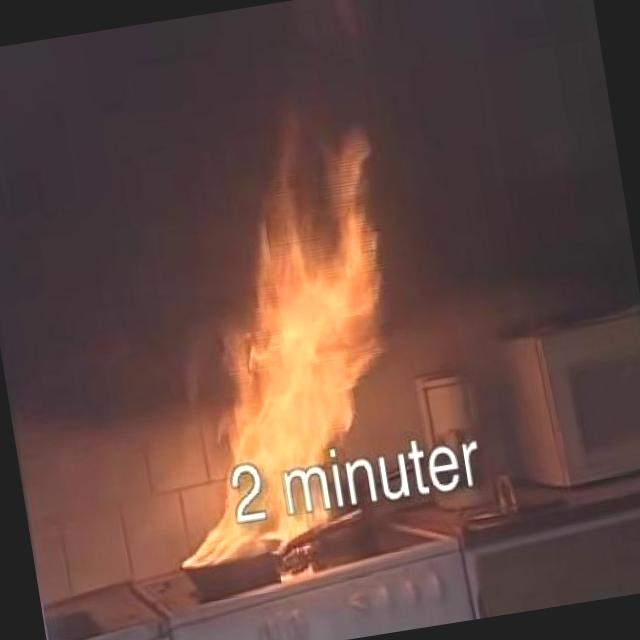fire: (107, 133, 426, 607)
